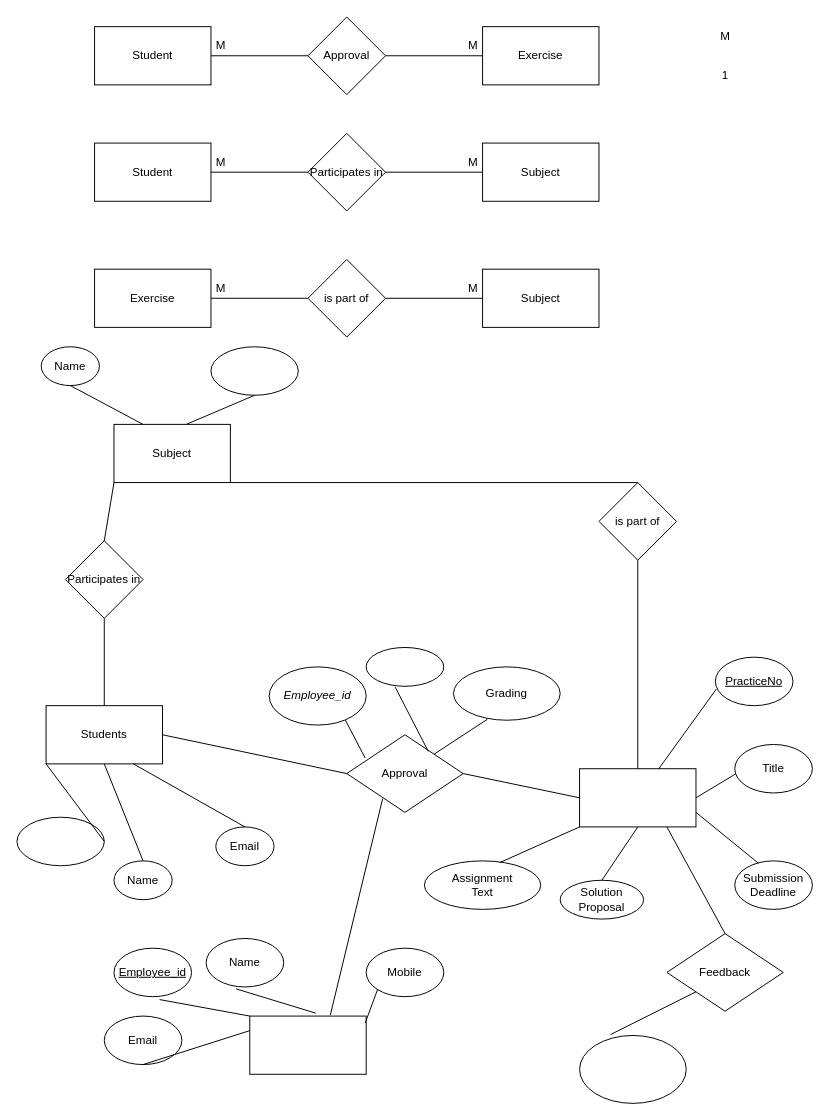
Some shapes in this 829 by 1120 pixel diagram are drawn without their labels. Each missing label, with the centre of its shape:
"Assistants" belongs at [307,1044].
"Date" belongs at [404,666].
"Exercises" belongs at [637,797].
"student_score" belongs at [632,1069].
"StudentNo" belongs at [60,841].
"SubjectNo" belongs at [254,370].
